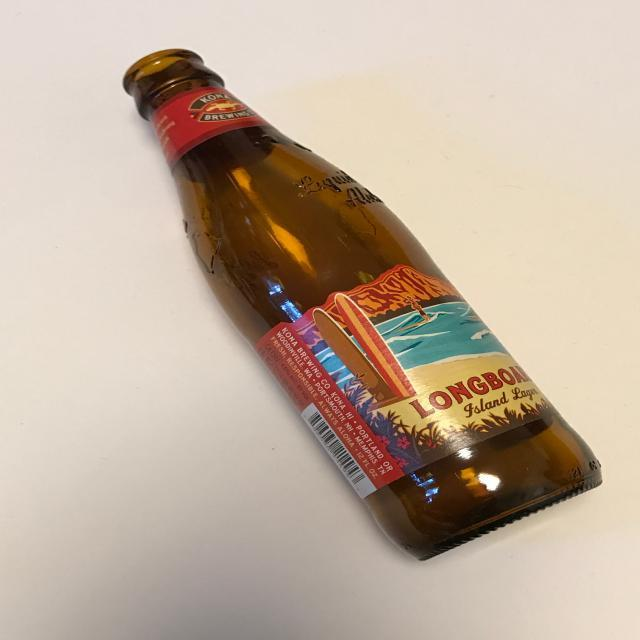glass: (120, 48, 606, 561)
